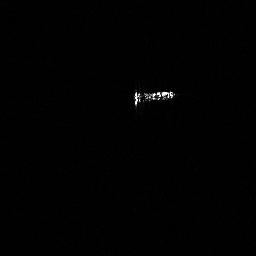ship: (129, 86, 178, 107)
